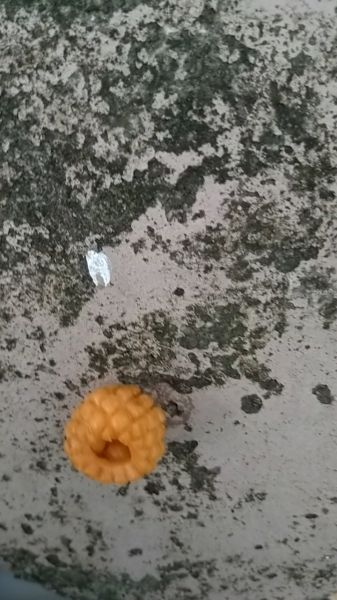eggs: (57, 371, 177, 489)
